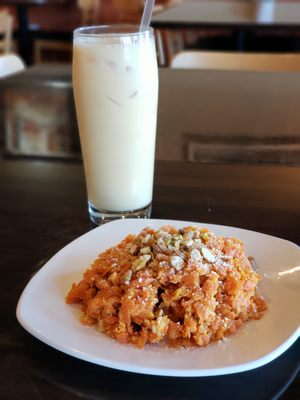pizza: (70, 22, 159, 226)
